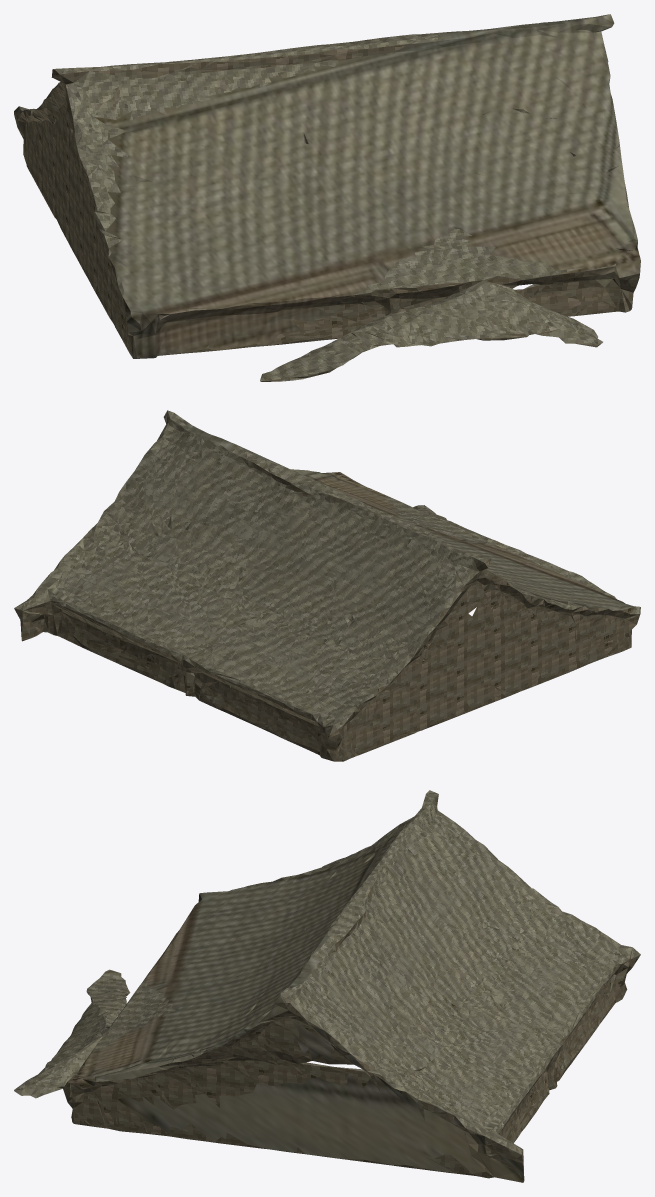
3 views of the same model, one above another, from view 1: azimuth 30°, elevation 25°; view 2: azimuth 150°, elevation 25°; view 3: azimuth 270°, elevation 25° (orthographic). The views are drawn at different scales.
Visible parts, largest first — view 1: painted, roof, wall; view 2: roof, wall, painted; view 3: roof, painted, wall.
Boxes of the visible parts, <box> form: painted: <box>94,14,640,358</box>; roof: <box>14,14,616,381</box>; wall: <box>14,43,640,381</box>; roof: <box>14,410,640,734</box>; wall: <box>14,411,640,761</box>; painted: <box>48,413,639,610</box>; roof: <box>14,790,640,1155</box>; painted: <box>67,833,524,1182</box>; wall: <box>14,794,640,1182</box>.
Size of the model in its own units: 6.11 by 1.92 by 6.4.
Materials: 3 (3 with a texture image).
